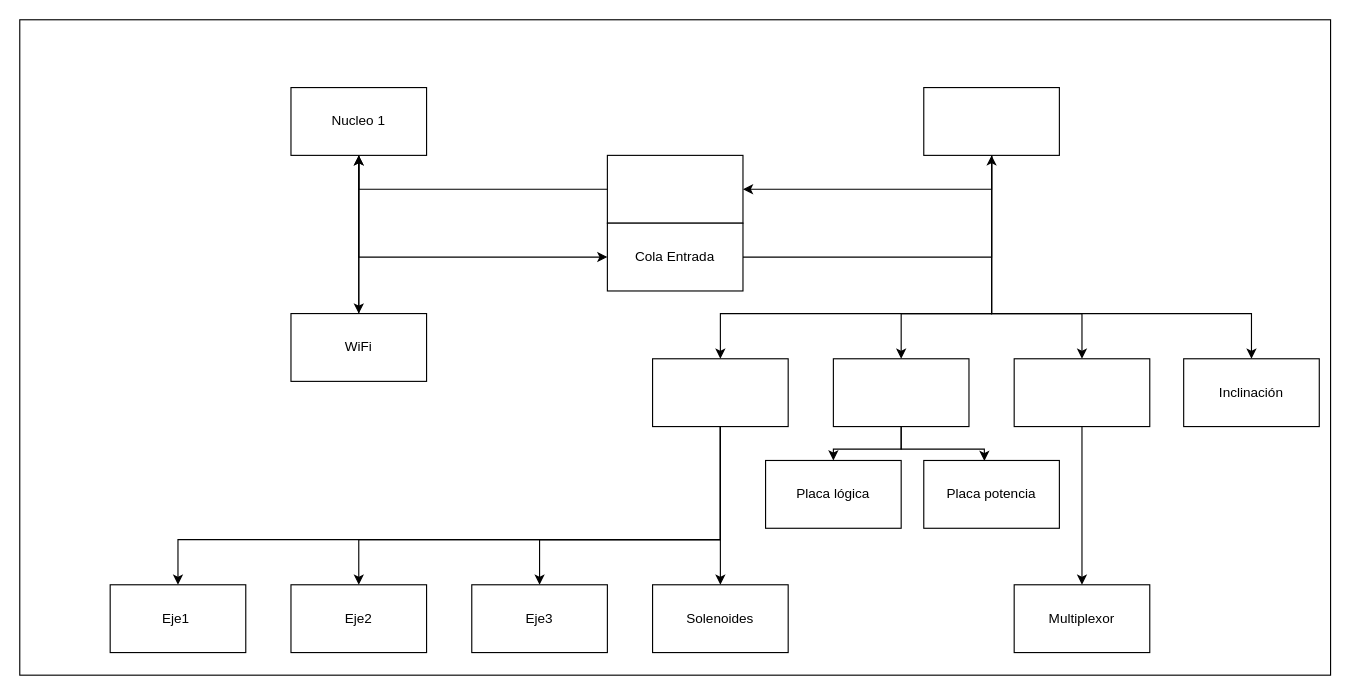
Some shapes in this 1350 by 695 pixel diagram are drawn without their labels. Each missing label, with the box of its shape:
Cola Salida: (606, 154, 743, 223)
Intensidades: (1013, 358, 1150, 427)
Nucleo 2: (923, 86, 1059, 155)
Puentes H: (651, 358, 788, 427)
Temperaturas: (832, 358, 969, 427)
